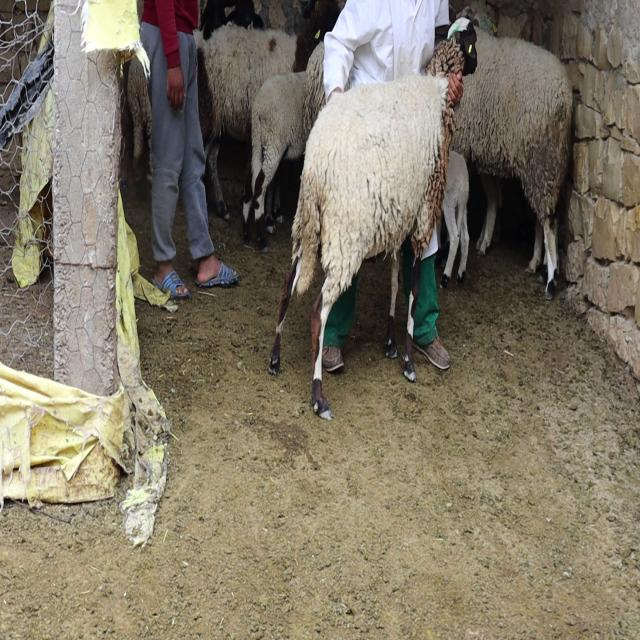Score_4: (269, 17, 477, 418)
